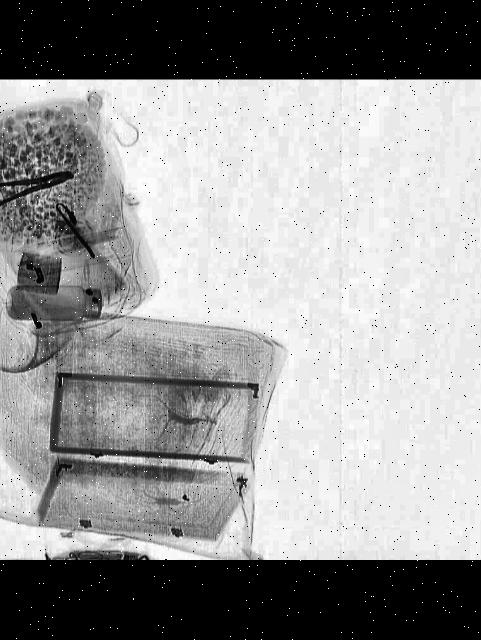Pliers: (0, 162, 77, 208)
